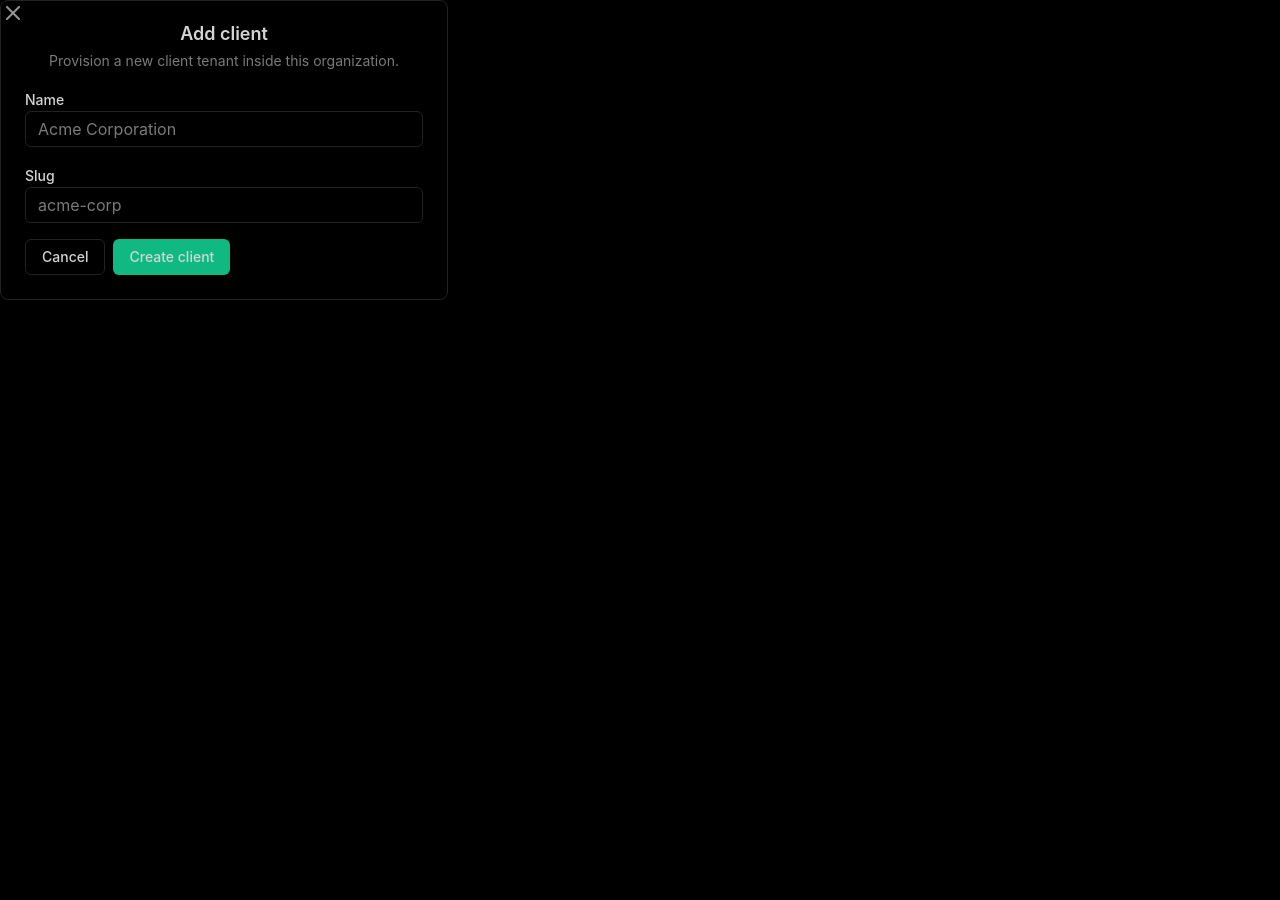
Test case: AddClientDialog › rejects a slug that is not kebab-case
Type "Acme Corp" into the field labelled "Name" at point(224, 129), box [25,111,423,147]
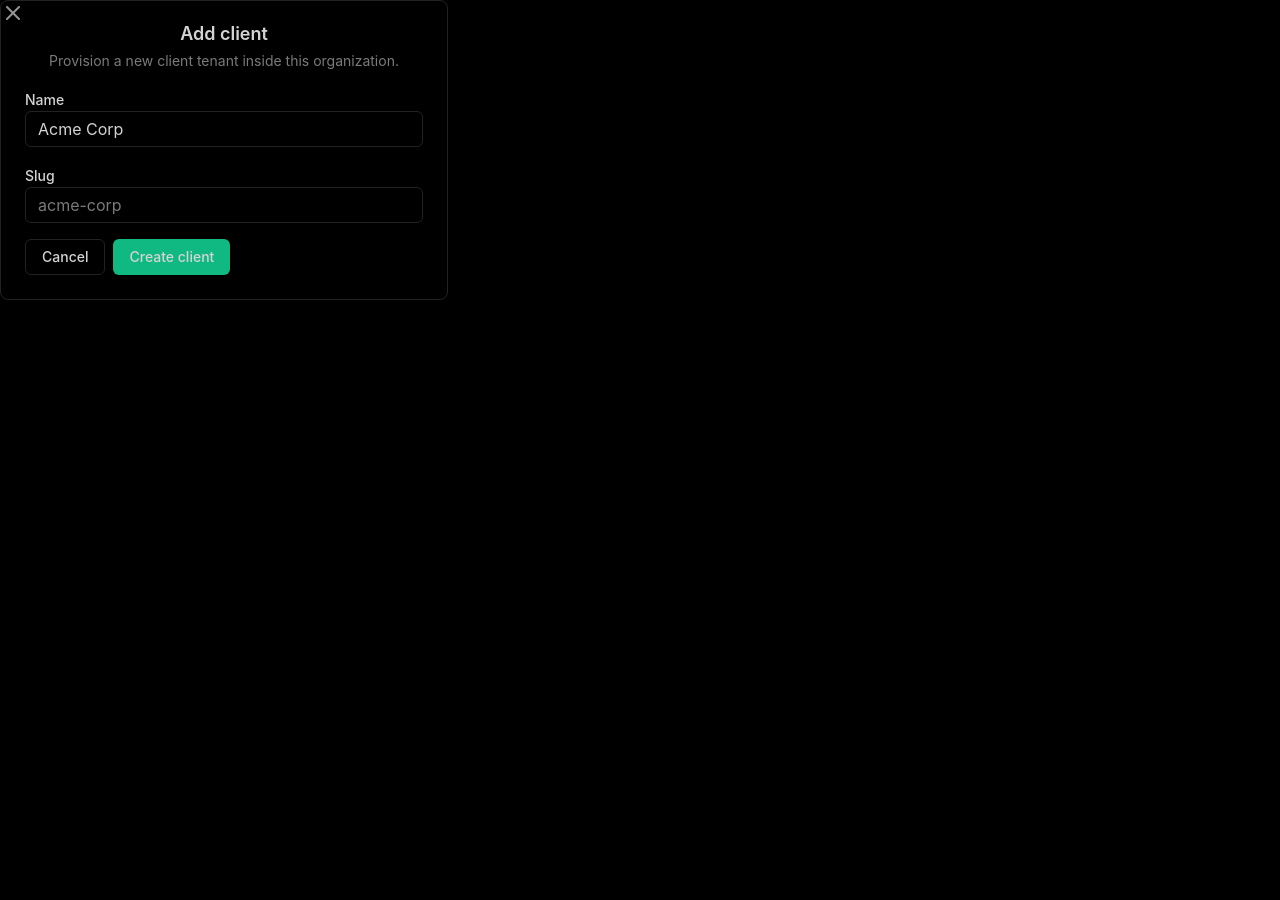
Type "Acme_Corp" into the field labelled "Slug" at point(224, 205), box [25,187,423,223]
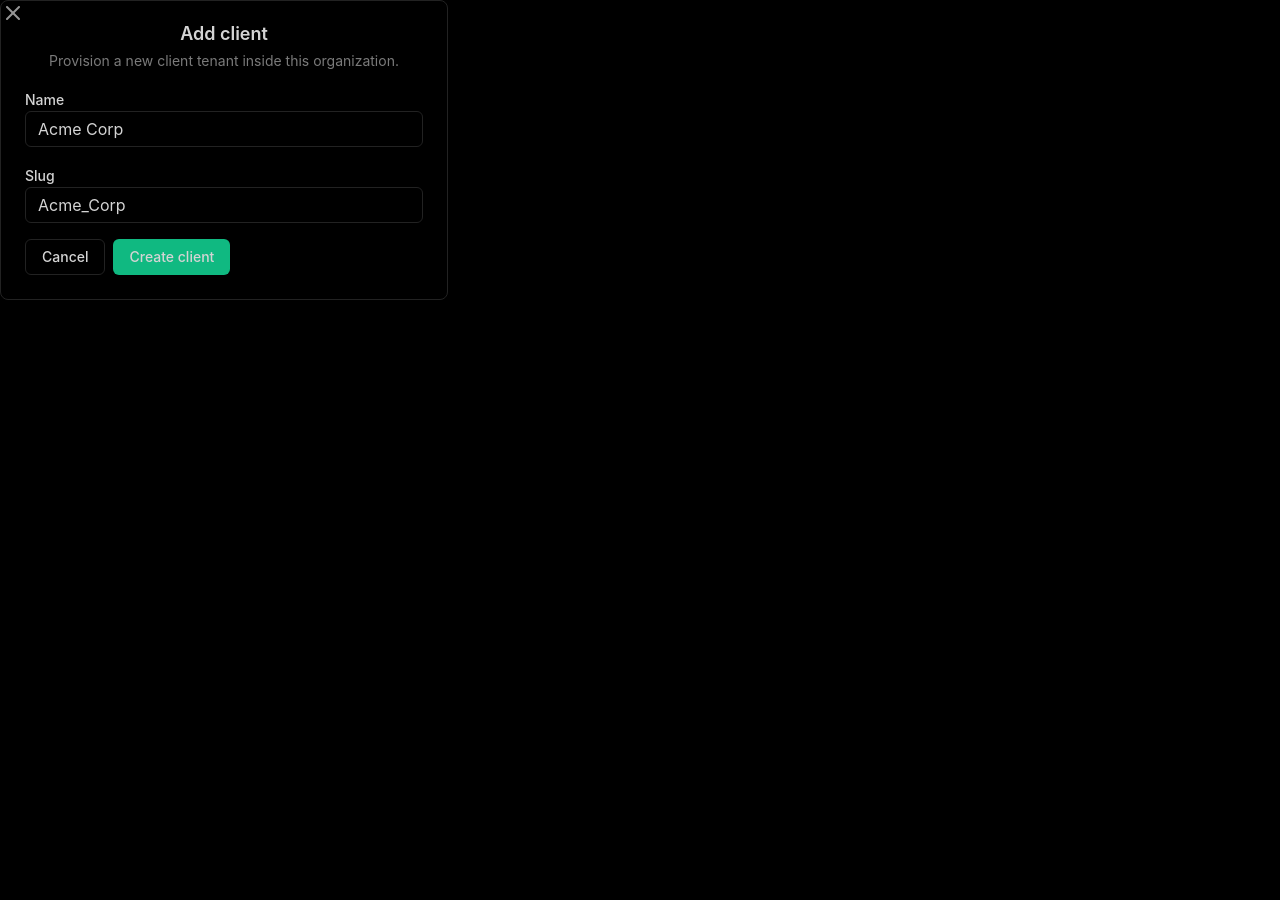
Click the button "Create client" at point(172, 257), box [114,239,230,275]
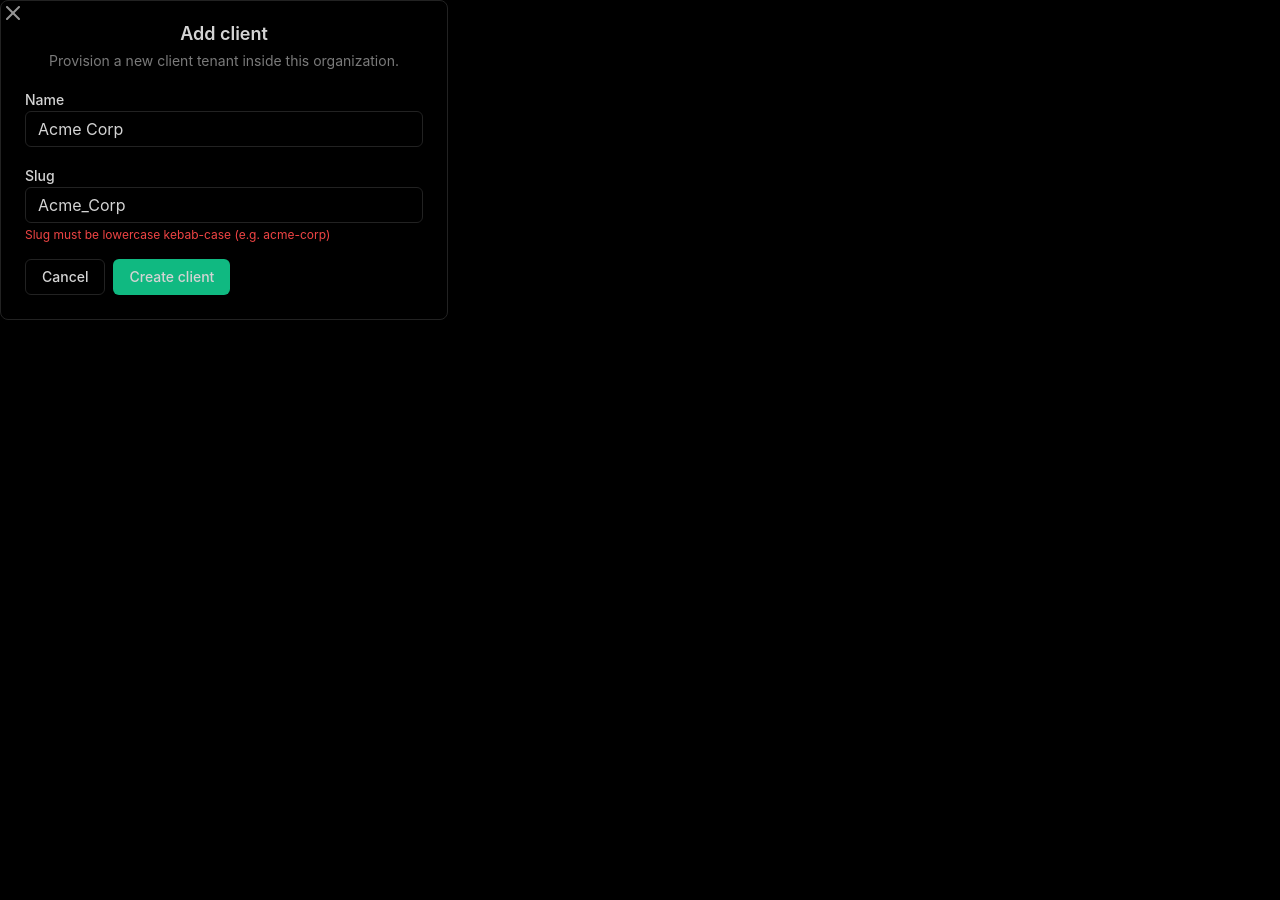
Now the text "Slug must be lowercase kebab-case (e.g. acme-corp)" is shown, box [25,227,330,242]
